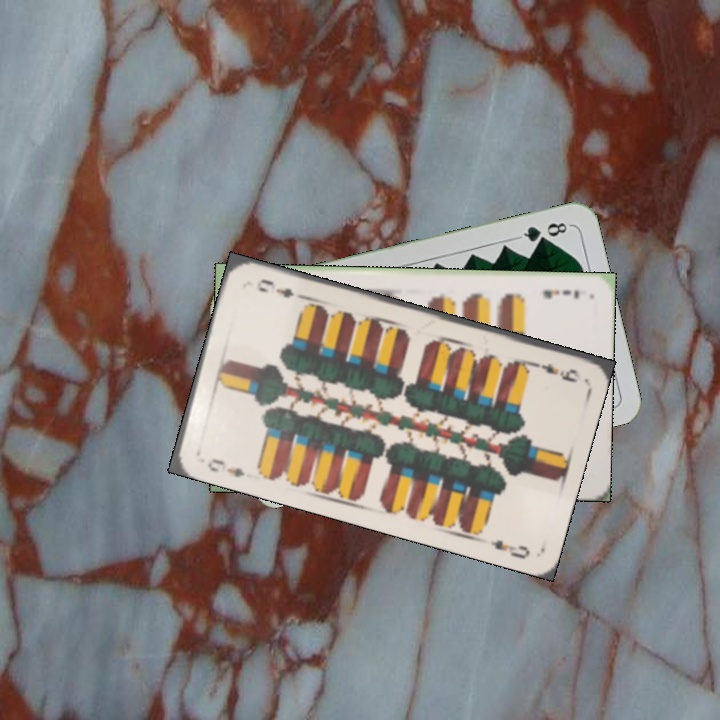E7: (540, 285, 582, 302)
E9: (525, 357, 584, 385), (203, 454, 247, 480)
G8: (514, 218, 573, 245)
